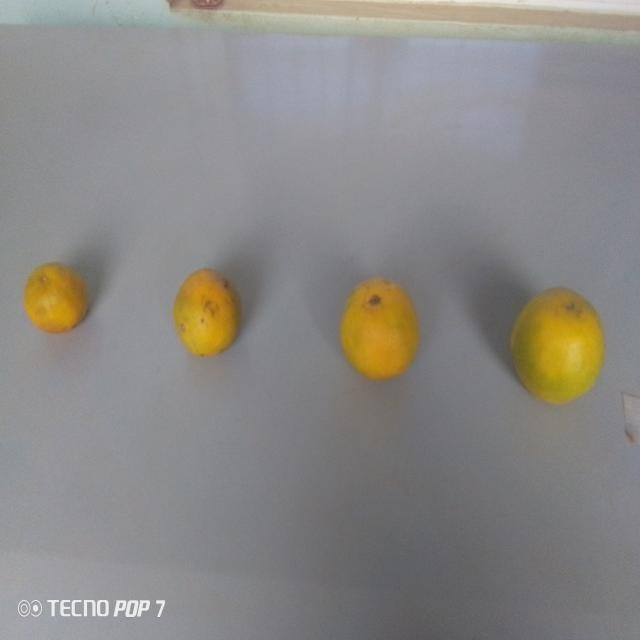agrume: (507, 278, 613, 422), (341, 270, 421, 386), (169, 264, 246, 367), (23, 247, 85, 343)
